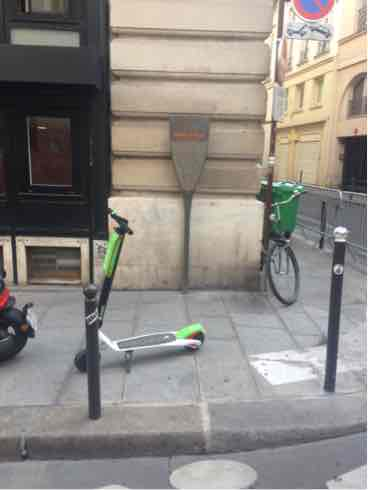scooter: (76, 202, 207, 387)
